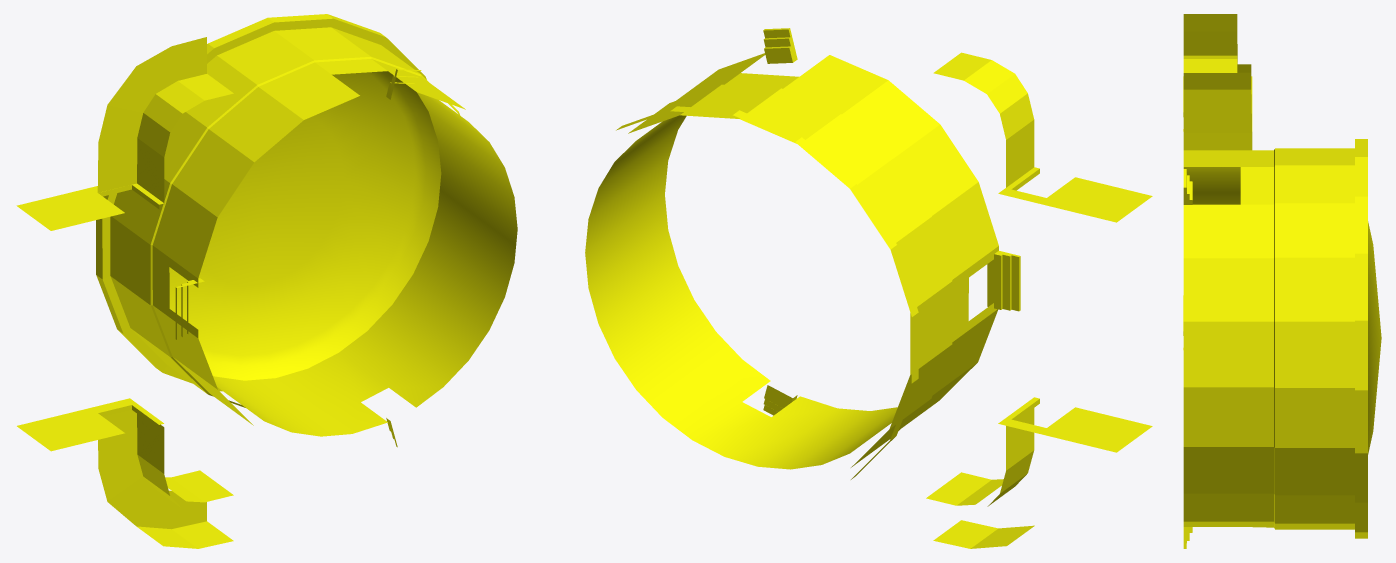
The model's file is walls1.gltf.
The picture shows the model from 3 angles, left to right: view 1: azimuth 30°, elevation 25°; view 2: azimuth 150°, elevation 25°; view 3: azimuth 270°, elevation 25°; orthographic projection. The views are drawn at different scales.
Visible parts, largest first — view 1: Box132; view 2: Box132; view 3: Box132.
Part boxes in pixels (box(x1,y1,x2,y2)): Box132: box(16, 14, 517, 548); Box132: box(585, 28, 1152, 548); Box132: box(1183, 14, 1381, 548).
Bounding box in the file's own units: 77.21 × 73.86 × 27.57.
1 material, 1 textured.
